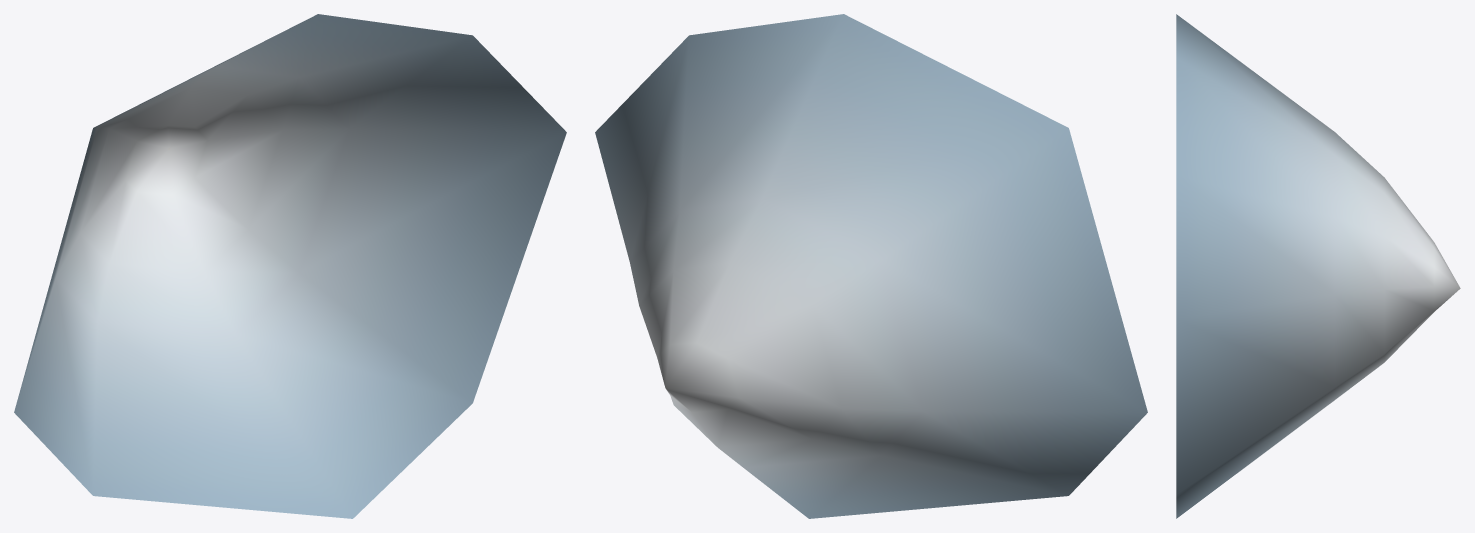
File: Mountain_A.FBX
The picture shows the model from 3 angles, left to right: view 1: azimuth 30°, elevation 25°; view 2: azimuth 150°, elevation 25°; view 3: azimuth 270°, elevation 25°; orthographic projection. The views are drawn at different scales.
Parts seen in each view (by area): view 1: Mountain_A; view 2: Mountain_A; view 3: Mountain_A.
Part boxes in pixels (<box>): Mountain_A: <box>14,14,566,518</box>; Mountain_A: <box>595,14,1147,518</box>; Mountain_A: <box>1176,14,1460,518</box>.
Size of the model in its own units: 357 by 317 by 183.
